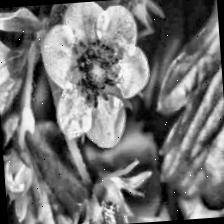Blossom Blight: (64, 32, 122, 110)
